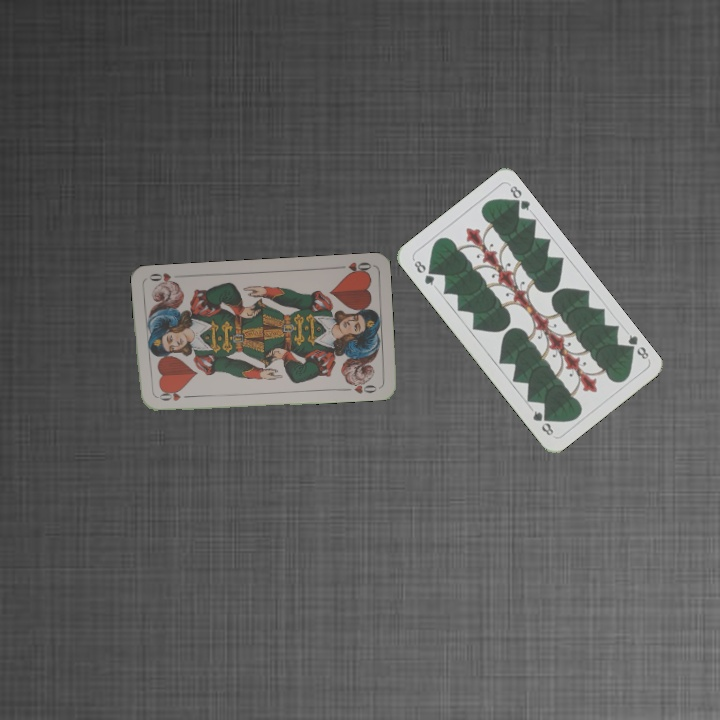G8: (621, 330, 651, 362), (410, 256, 437, 288)
HO: (333, 258, 373, 277), (152, 387, 192, 403)
